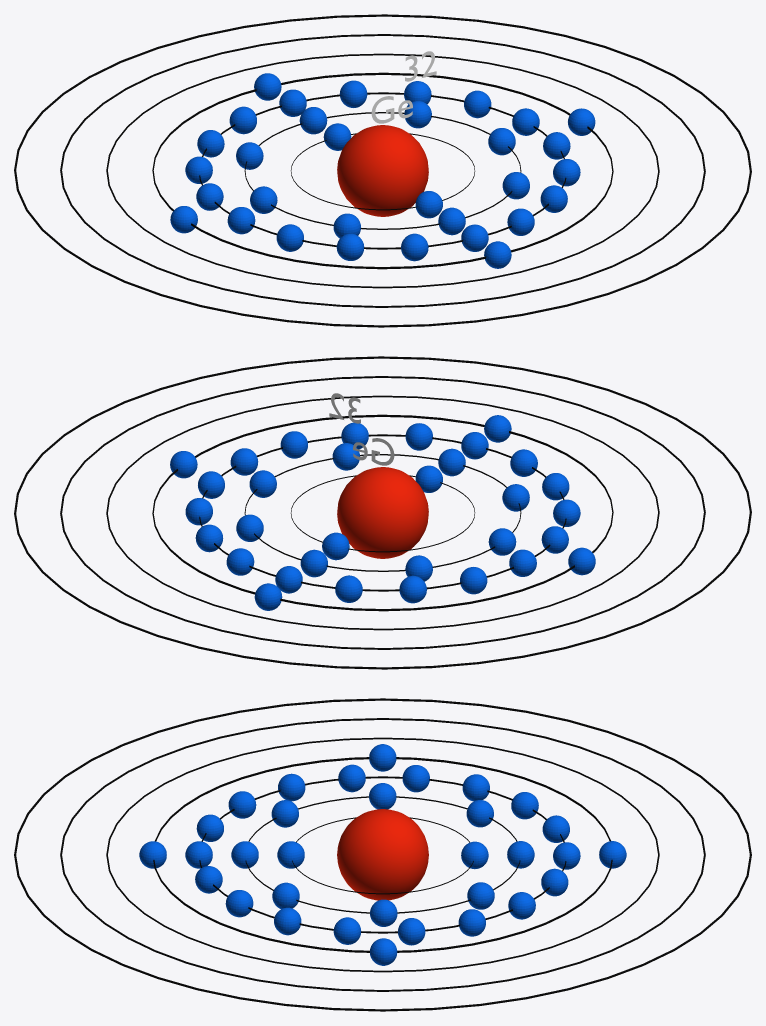
3 renders of one model, top to bottom at view 1: azimuth 30°, elevation 25°; view 2: azimuth 150°, elevation 25°; view 3: azimuth 270°, elevation 25°, orthographic.
Parts seen in each view (by area): view 1: Ge3, Proton, n7, Ge2, n6, n5, n4, Ge4, Ge1, n3, n2; view 2: Ge3, Proton, Ge2, n7, n6, n5, n4, Ge4, Ge1, n3, n2; view 3: Ge3, Proton, Ge2, n7, n6, n5, n4, Ge4, Ge1, n3, n2, n1.
Boxes of the visible parts, box(x1,y1,x2,y2) form: Ge3: box(185, 80, 580, 261); Proton: box(337, 125, 428, 216); n7: box(14, 14, 751, 327); Ge2: box(236, 101, 529, 238); n6: box(60, 34, 705, 307); n5: box(106, 53, 659, 288); n4: box(152, 72, 613, 269); Ge4: box(170, 73, 595, 268); Ge1: box(323, 123, 442, 218); n3: box(199, 92, 566, 249); n2: box(244, 112, 521, 229); Ge3: box(185, 422, 580, 603); Proton: box(337, 467, 428, 558); Ge2: box(236, 443, 529, 581); n7: box(14, 356, 751, 669); n6: box(60, 376, 705, 649); n5: box(106, 395, 659, 630); n4: box(152, 414, 613, 611); Ge4: box(170, 415, 595, 610); Ge1: box(322, 465, 442, 560); n3: box(199, 434, 566, 591); n2: box(244, 454, 521, 571); Ge3: box(185, 764, 580, 945); Proton: box(337, 809, 428, 900); Ge2: box(231, 783, 534, 926); n7: box(14, 698, 751, 1011); n6: box(60, 718, 705, 991); n5: box(106, 737, 659, 972); n4: box(153, 757, 612, 952); Ge4: box(139, 744, 626, 965); Ge1: box(277, 841, 488, 869); n3: box(199, 776, 566, 933); n2: box(245, 796, 520, 913); n1: box(292, 817, 473, 894).
Bounding box in the file's own units: 802 × 180 × 802.
